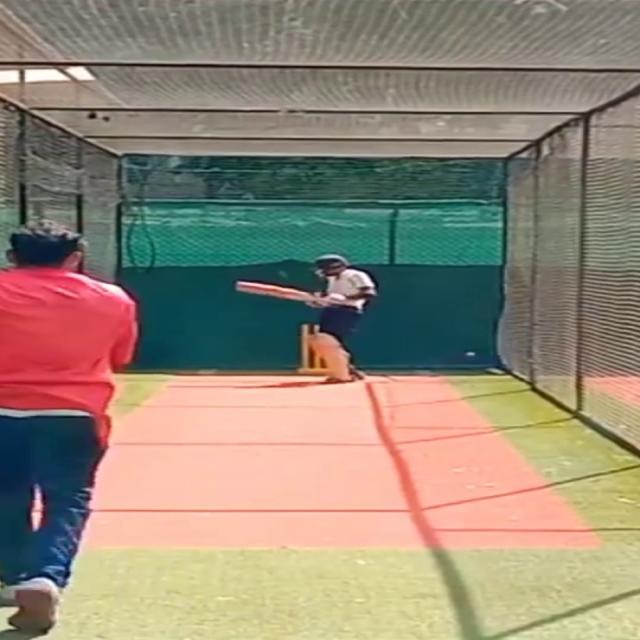stump: (296, 323, 324, 375)
